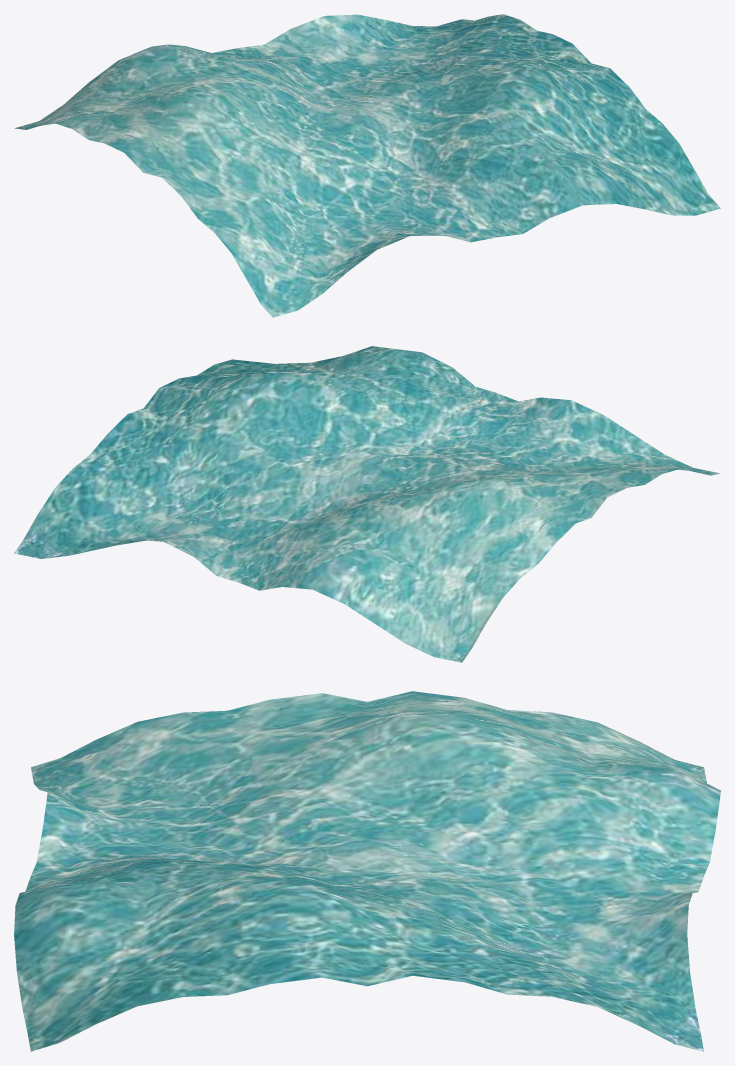
The model's file is water_000164.obj.
3 renders of one model, top to bottom at view 1: azimuth 30°, elevation 25°; view 2: azimuth 150°, elevation 25°; view 3: azimuth 270°, elevation 25°, orthographic. The views are drawn at different scales.
Visible parts, largest first — view 1: Plan.003_Plan.001; view 2: Plan.003_Plan.001; view 3: Plan.003_Plan.001.
Part boxes in pixels (x1=…): Plan.003_Plan.001: x1=14, y1=14, x2=720, y2=317; Plan.003_Plan.001: x1=14, y1=346, x2=720, y2=662; Plan.003_Plan.001: x1=14, y1=691, x2=720, y2=1051.
Size of the model in its own units: 60752 by 10142 by 63361.
Materials: 1 (1 with a texture image).
